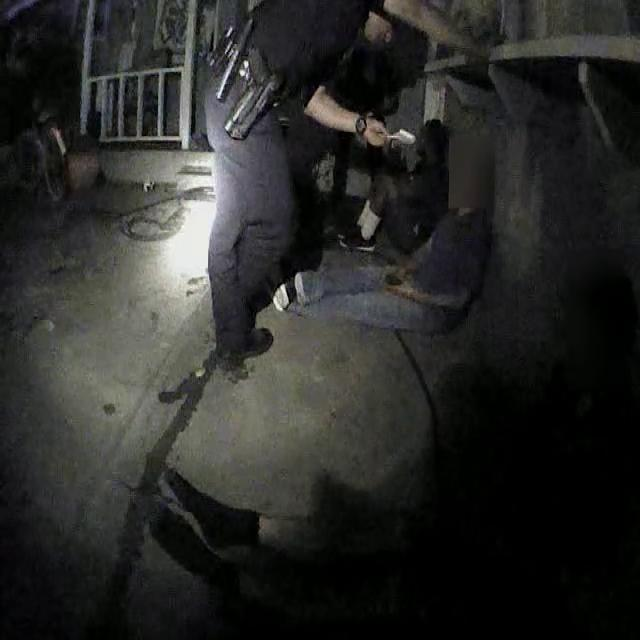gun: (224, 33, 290, 154)
